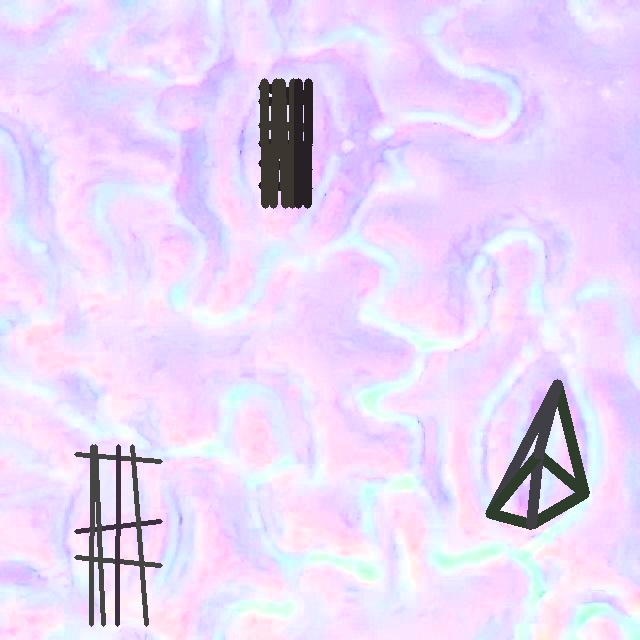close: (74, 444, 162, 626), (258, 79, 312, 208)
open: (486, 379, 589, 528)
